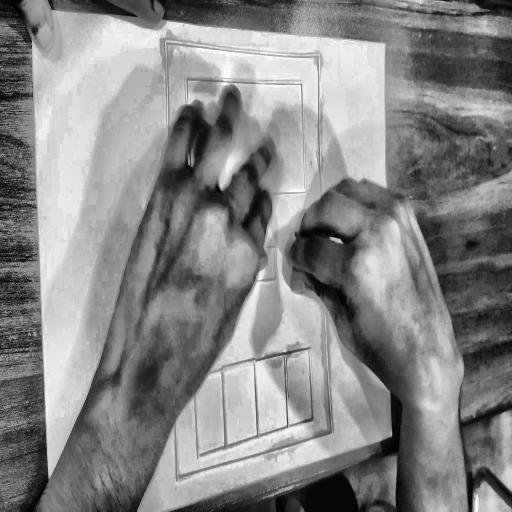bottom_right: (390, 429, 396, 440)
door: (161, 29, 338, 491)
top_left: (29, 4, 38, 18)
top_right: (381, 36, 390, 53)
